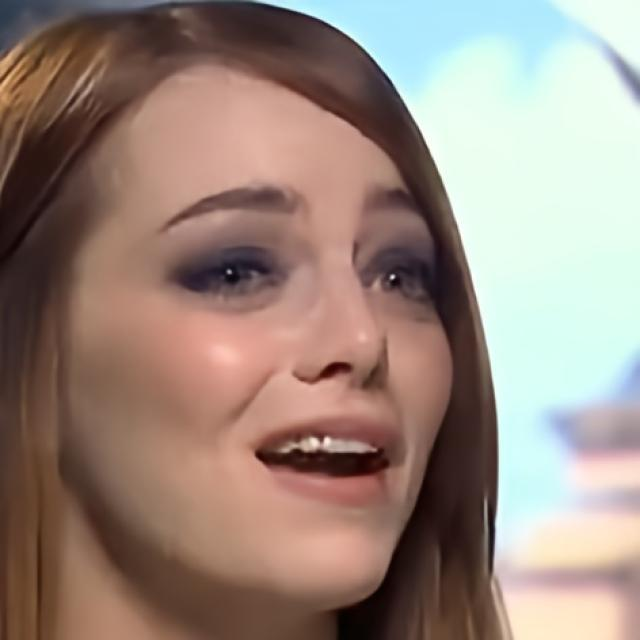surprise: (59, 59, 457, 614)
